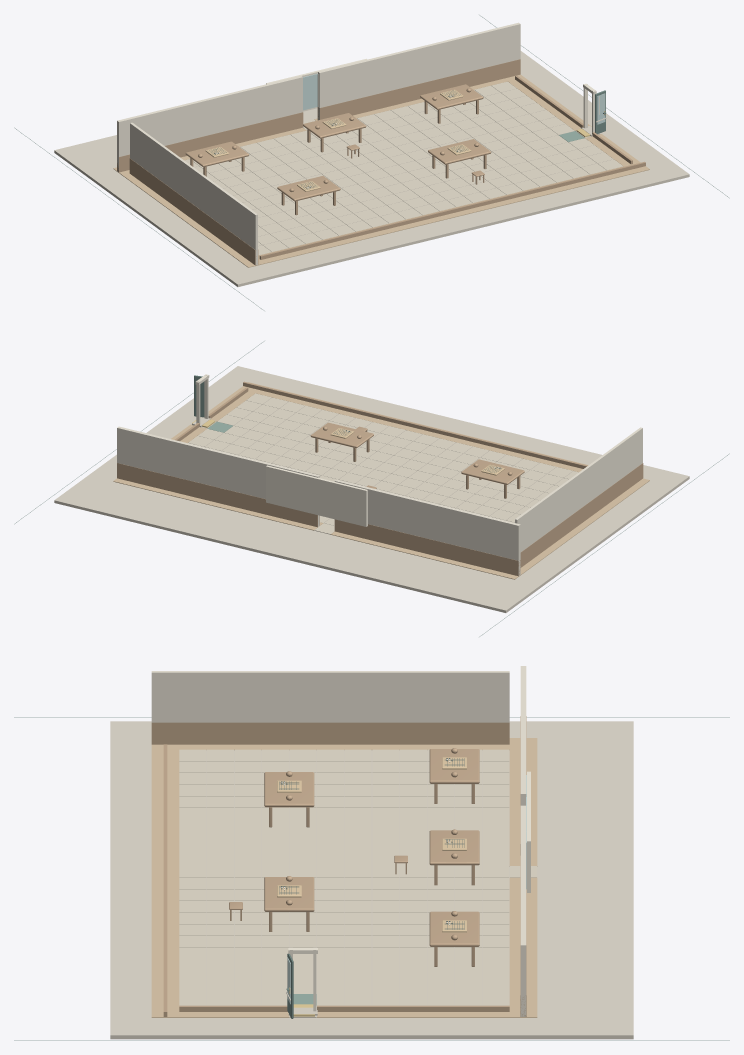
The model's file is room.glb.
3 renders of one model, top to bottom at view 1: azimuth 30°, elevation 25°; view 2: azimuth 150°, elevation 25°; view 3: azimuth 270°, elevation 25°, orthographic. The views are drawn at different scales.
Visible parts, largest first — view 1: ground, cutaway wall, building slab, wainscot, wall foundation, goban, cold glass, window frame, surrounding corridor seam; view 2: building slab, ground, cutaway wall, wainscot, wall foundation, window frame, surrounding corridor seam; view 3: ground, building slab, cutaway wall, wainscot, wall foundation, goban, surrounding corridor seam, window frame.
Part boxes in pixels (x1,y1,x2,y2): ground: (184, 81, 622, 255); cutaway wall: (117, 22, 520, 265); building slab: (54, 51, 689, 286); wainscot: (117, 59, 645, 265); wall foundation: (113, 74, 649, 267); goban: (205, 89, 471, 191); cold glass: (303, 73, 605, 124); window frame: (266, 58, 606, 133); surrounding corridor seam: (14, 15, 729, 310); building slab: (54, 366, 689, 612); ground: (188, 393, 578, 534); cutaway wall: (117, 426, 642, 575); wainscot: (117, 381, 643, 576); wall foundation: (113, 382, 649, 579); window frame: (195, 374, 367, 526); surrounding corridor seam: (14, 341, 729, 636); ground: (179, 749, 536, 1017); building slab: (110, 721, 633, 1039); cutaway wall: (151, 666, 526, 1016); wainscot: (151, 716, 526, 1016); wall foundation: (151, 738, 537, 1017); goban: (277, 757, 466, 932); surrounding corridor seam: (14, 717, 729, 1040); window frame: (286, 771, 530, 1011).
Size of what is drawn, in the model's own units: 22.22 by 2.45 by 20.8.
